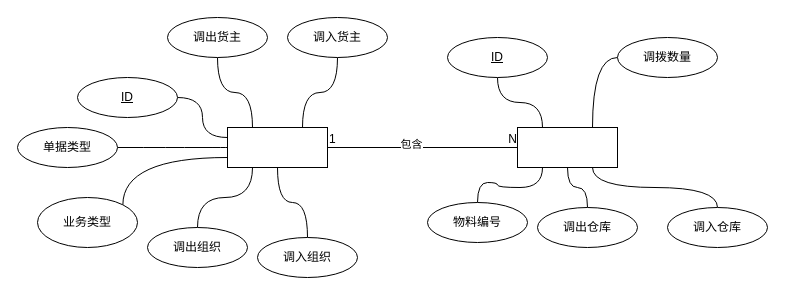
Some shapes in this 785 by 295 pixel diagram are drawn without their labels. Each missing label, with the centre of its shape:
分步式调出单: the point at 277,147
分步式调出单明细: the point at 567,147
